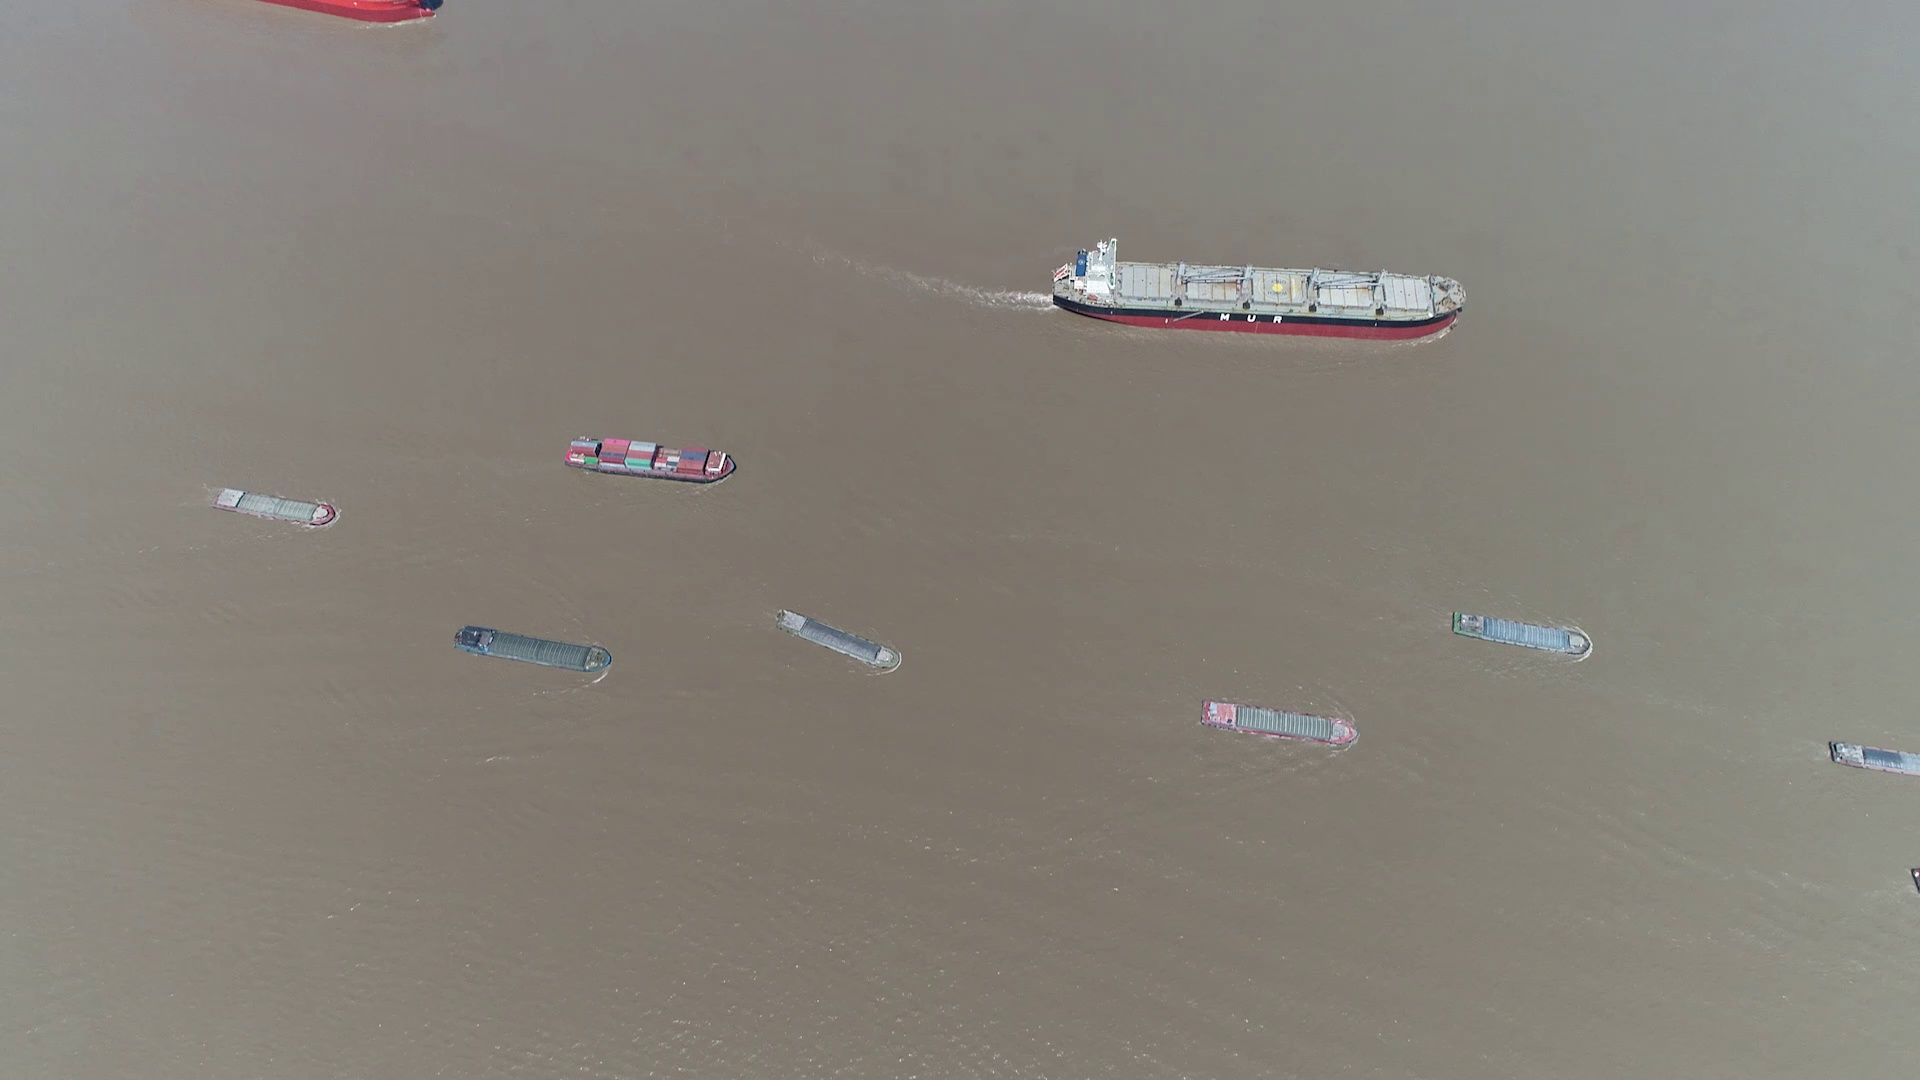ship: (1054, 244, 1466, 340), (563, 436, 738, 484), (778, 611, 901, 673), (460, 626, 615, 674), (1204, 700, 1360, 745), (1448, 611, 1594, 655), (210, 487, 338, 526), (1828, 742, 1920, 777)
